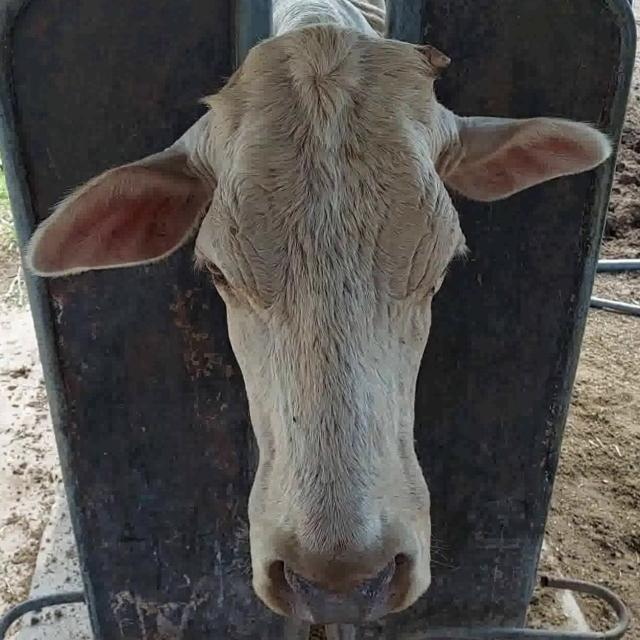cowFace: (195, 29, 465, 622)
